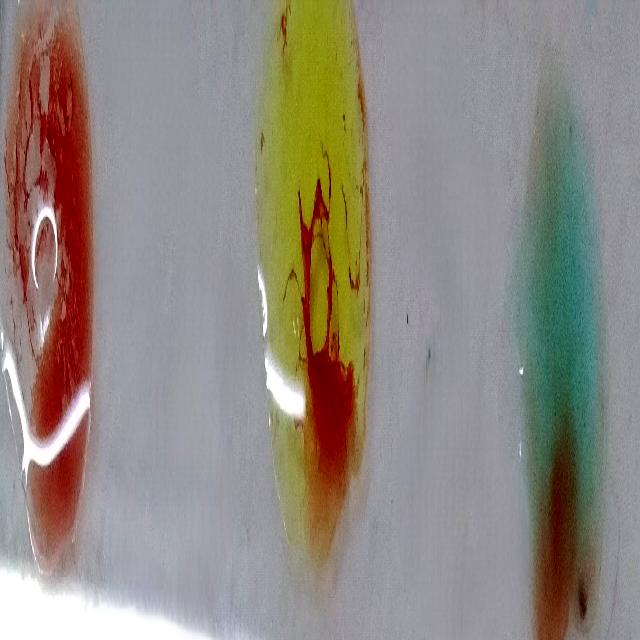B: (258, 18, 371, 525)
D: (7, 25, 93, 573)
